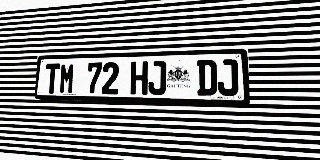2: (102, 62, 119, 94)
7: (86, 62, 103, 94)
D: (197, 60, 217, 96)
H: (130, 61, 148, 95)
J: (217, 59, 238, 96), (148, 61, 166, 95)
M: (59, 63, 75, 94)
T: (44, 63, 60, 94)
